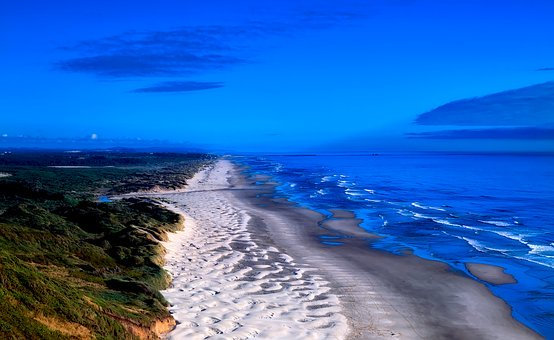sea: (60, 147, 553, 337)
sky: (6, 6, 549, 155)
